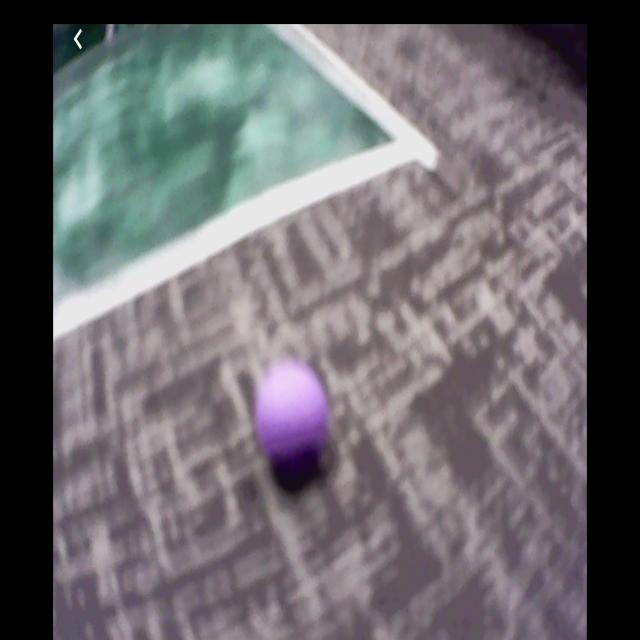ball: (256, 363, 329, 473)
